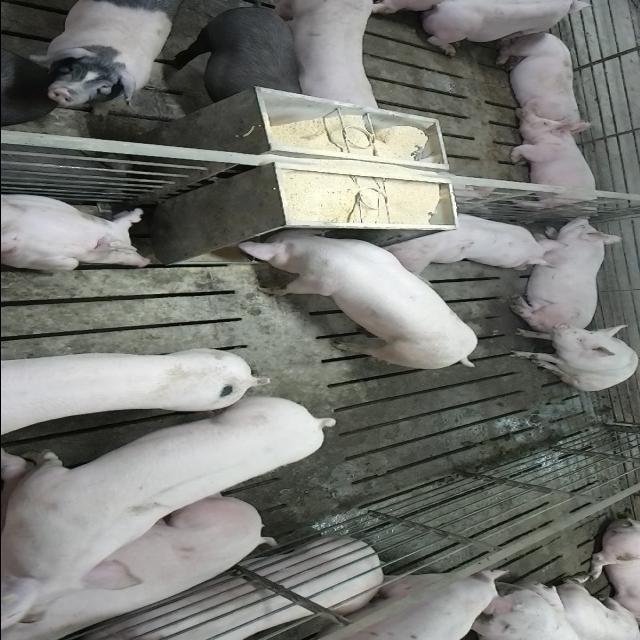Feeding: (232, 230, 478, 374)
Lateral_lying: (0, 492, 270, 640), (32, 538, 385, 640)
Sitting: (506, 322, 638, 391)
Standing: (3, 392, 347, 604), (0, 346, 265, 427), (282, 564, 514, 640), (30, 2, 176, 114), (161, 4, 303, 114), (268, 2, 384, 118)
Sternal_lying: (0, 192, 159, 273), (508, 217, 624, 327), (378, 209, 562, 270), (416, 2, 604, 56), (490, 29, 590, 130), (506, 117, 604, 215)
